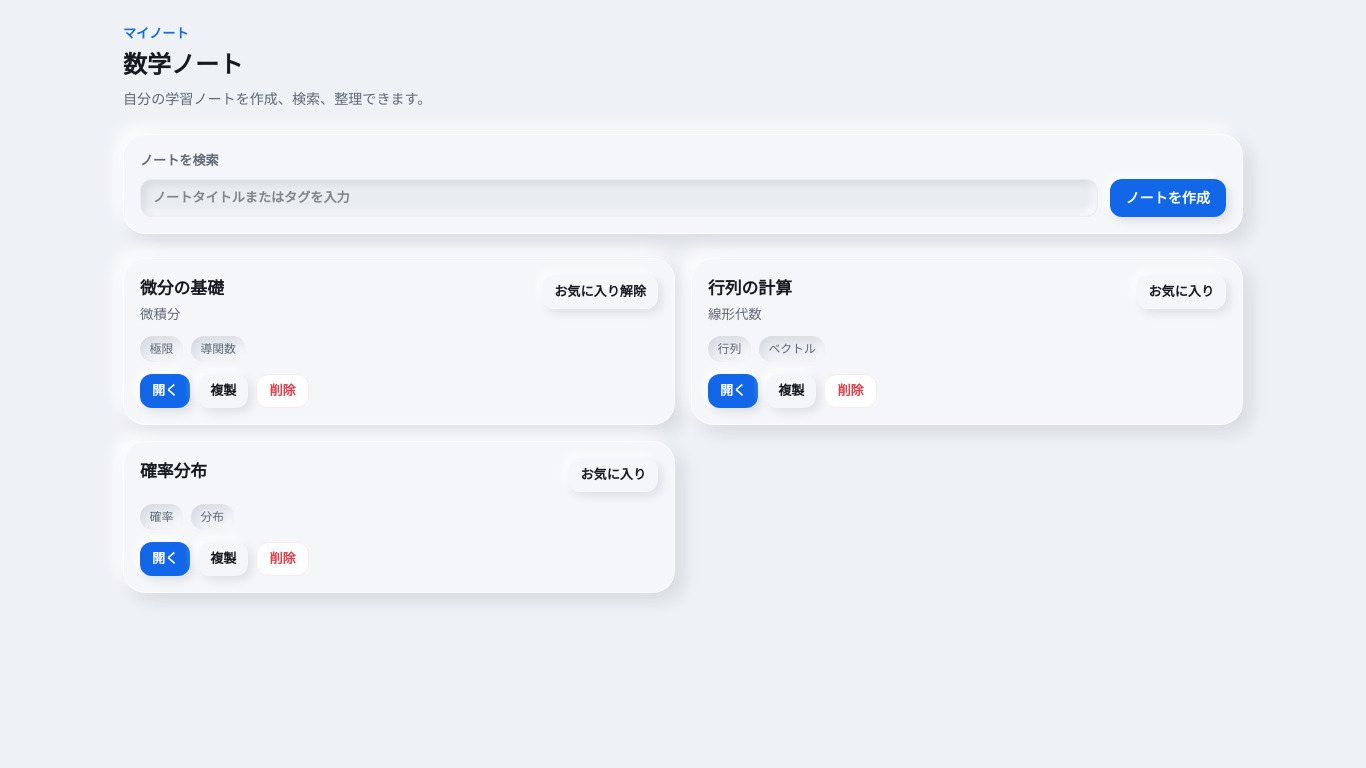
Test: NotesListView › ノート一覧では確認後に選んだノートだけを削除する
What coordinates should you click on to do the following:
click the button with test id "delete-note" below "極限"
I would click on:
 (283, 391)
Its box is x1=256 y1=374 x2=309 y2=408.
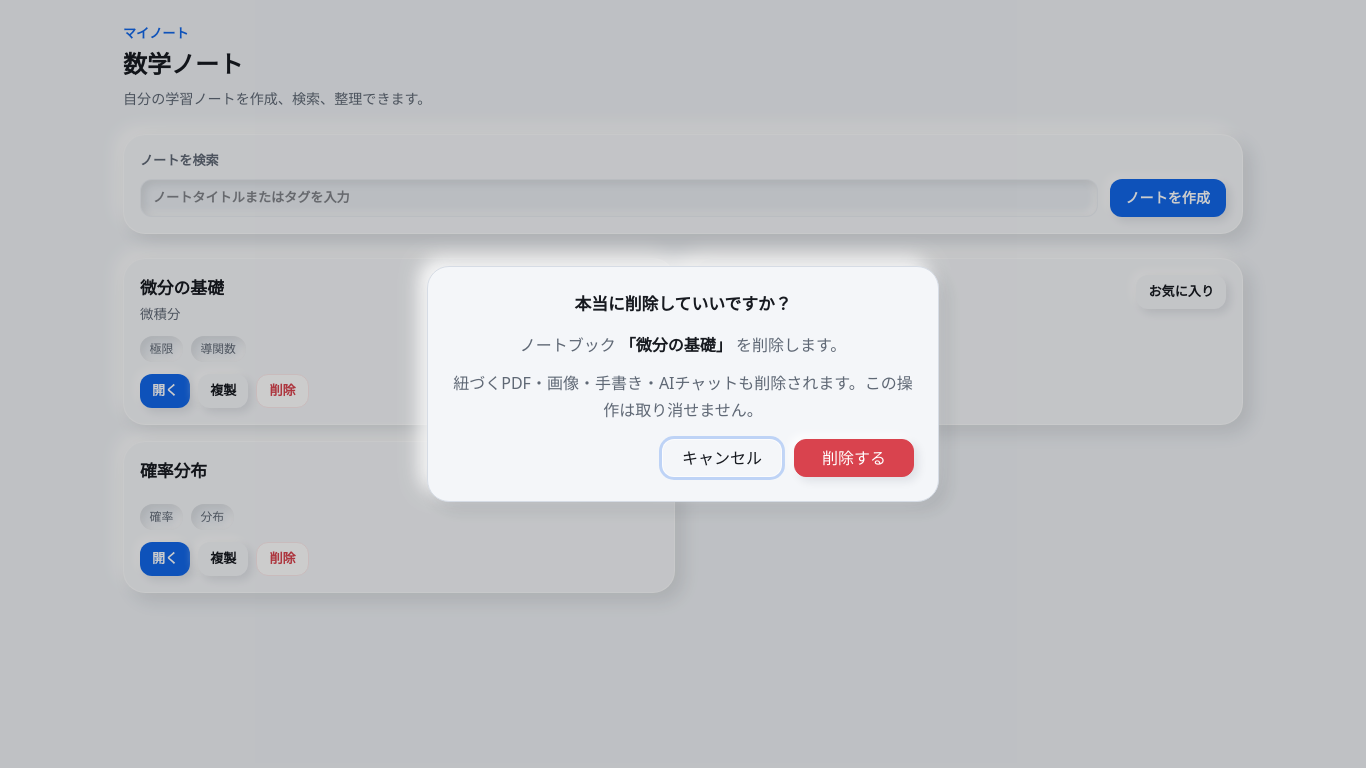
Expected: the text "微分の基礎" is shown, x1=140 y1=275 x2=224 y2=300
Now the dialog is shown
What coordinates should you click on to do the following:
click the button with test id "cancel-note-delete"
I would click on:
 (722, 458)
Its box is x1=662 y1=439 x2=782 y2=477.
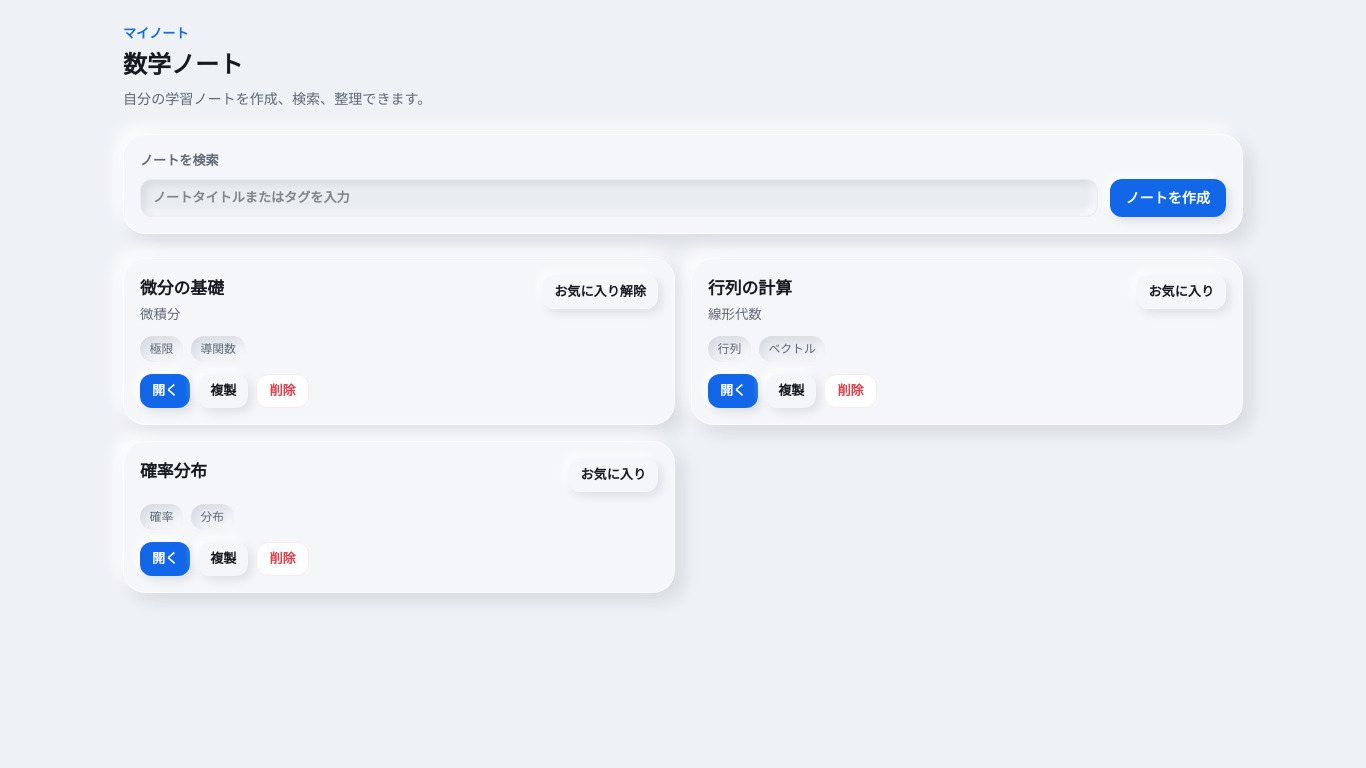
Expected: the text "微分の基礎" is shown, x1=140 y1=275 x2=224 y2=300
What coordinates should you click on to do the following:
click the button with test id "delete-note" below "極限"
I would click on:
 (283, 391)
Its box is x1=256 y1=374 x2=309 y2=408.
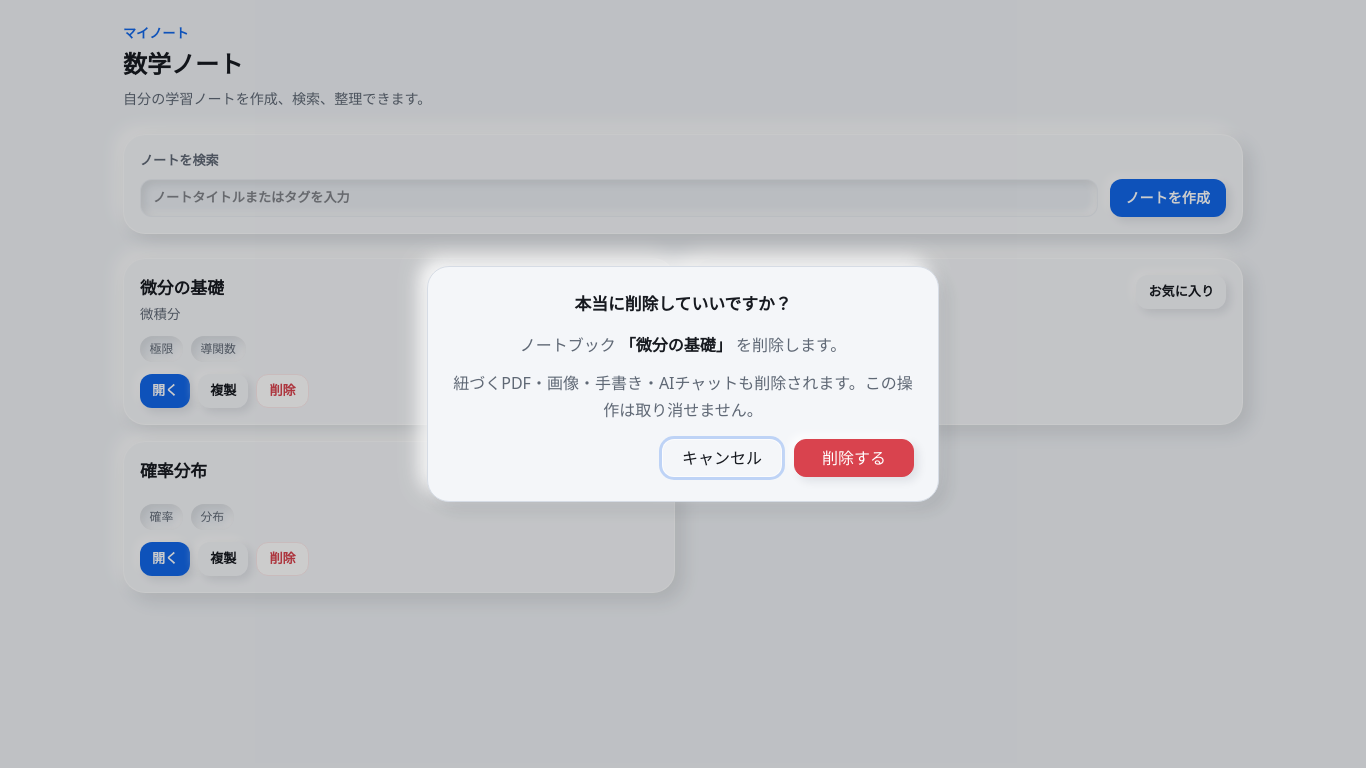
What coordinates should you click on to do the following:
click the button with test id "confirm-note-delete"
I would click on:
 (854, 458)
Its box is x1=794 y1=439 x2=914 y2=477.
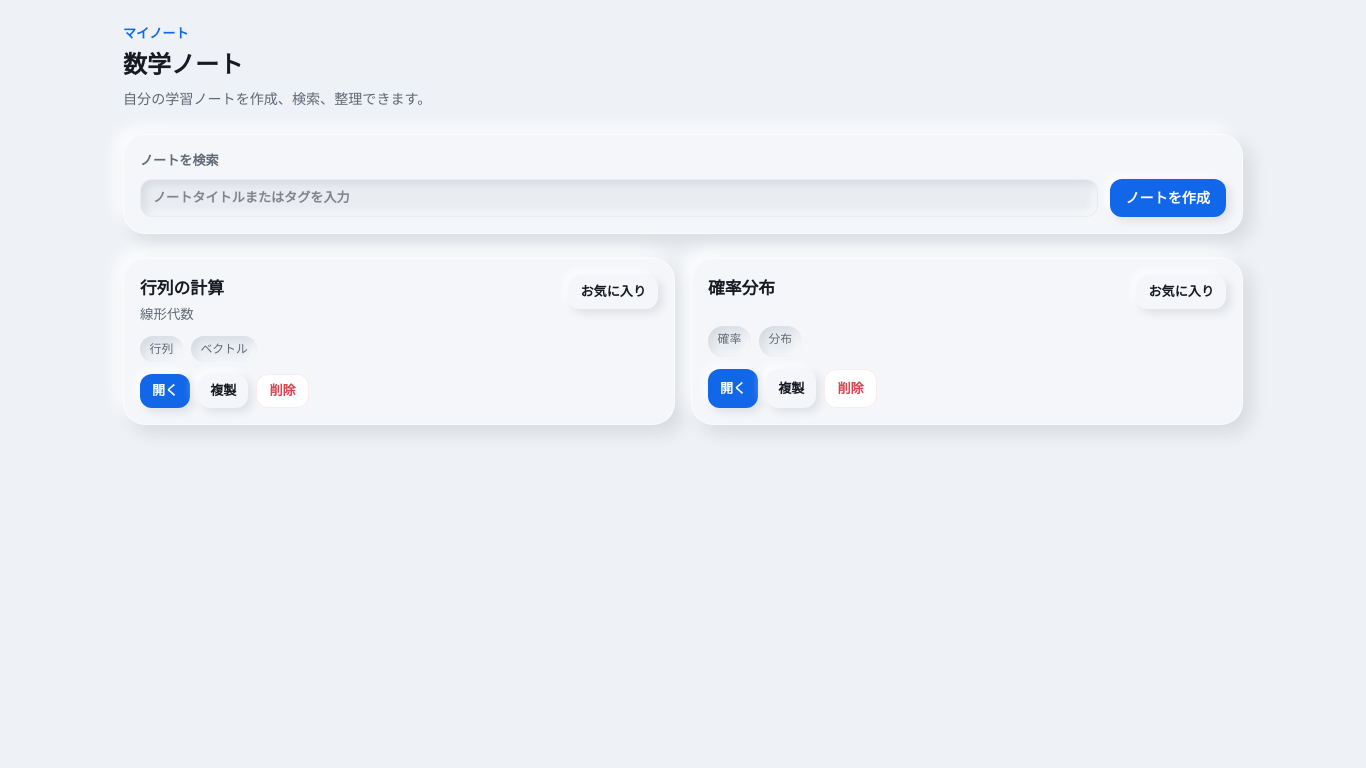
Expected: the text "行列の計算" is shown, x1=140 y1=275 x2=224 y2=300
Now the text "微分の基礎" is gone
